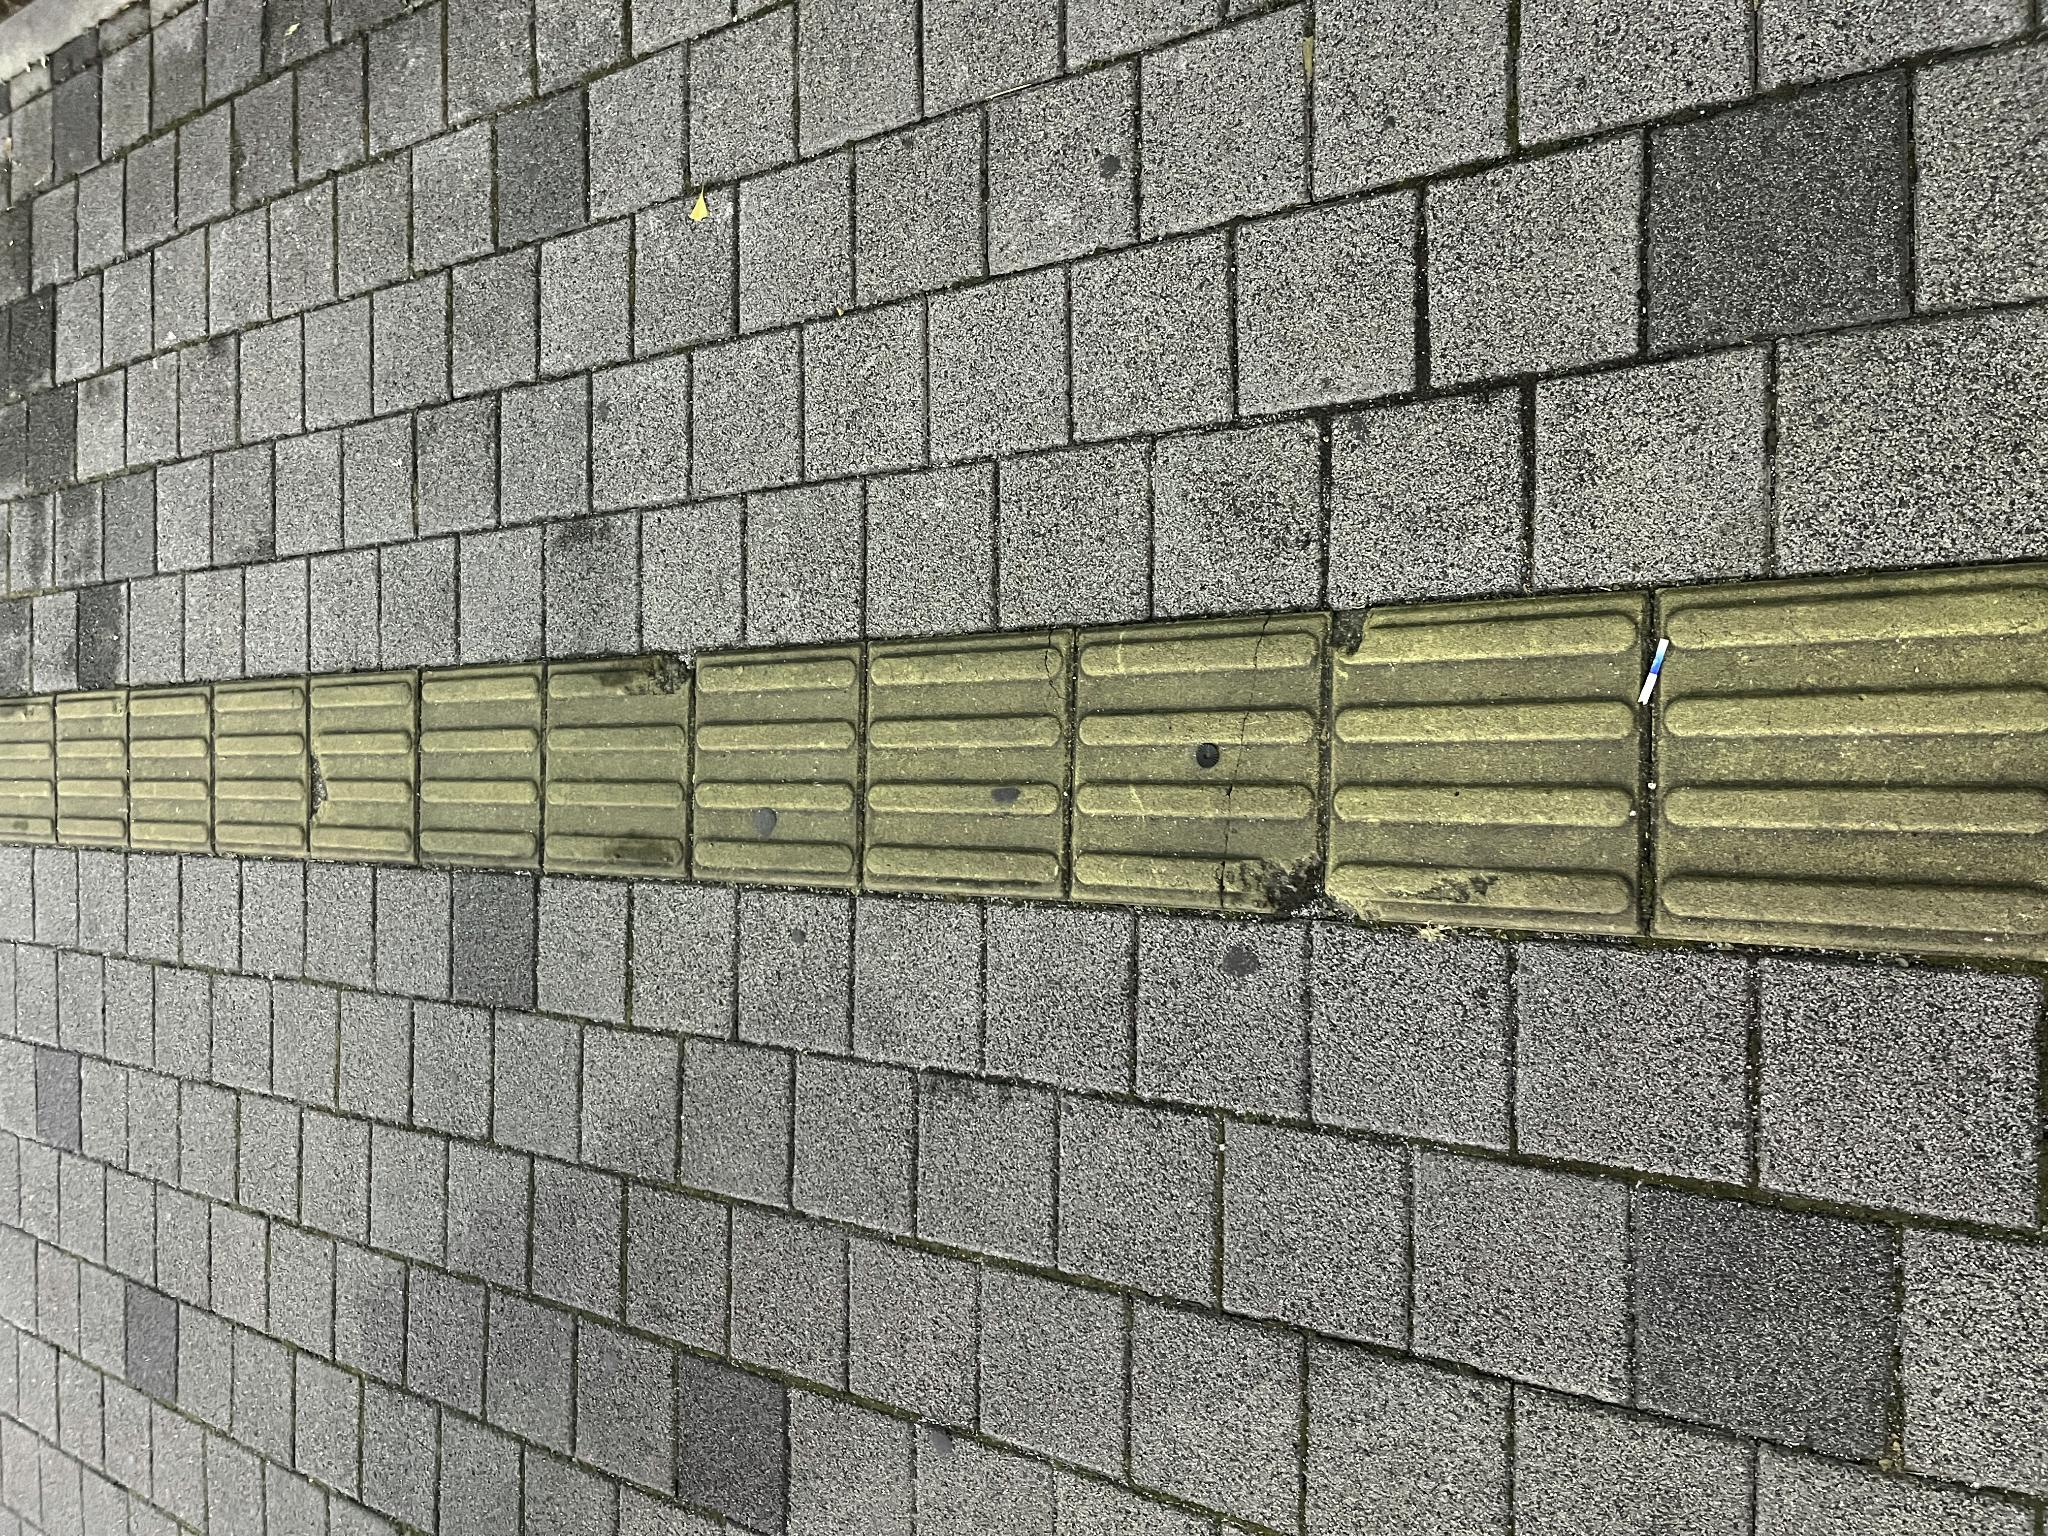Straight block broken: (621, 1071, 922, 1325), (606, 1326, 937, 1536), (658, 544, 880, 692), (674, 310, 866, 415)
Straight block normal: (640, 865, 906, 1068), (650, 694, 889, 858), (668, 419, 872, 542)
